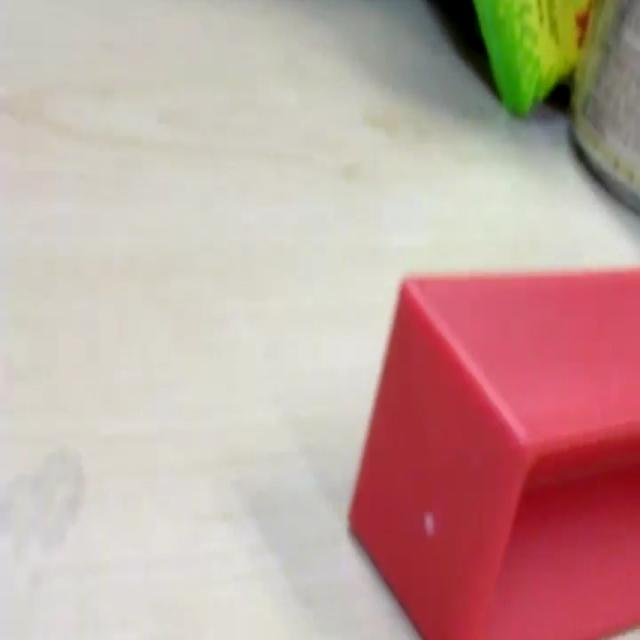red_block: (346, 264, 638, 637)
